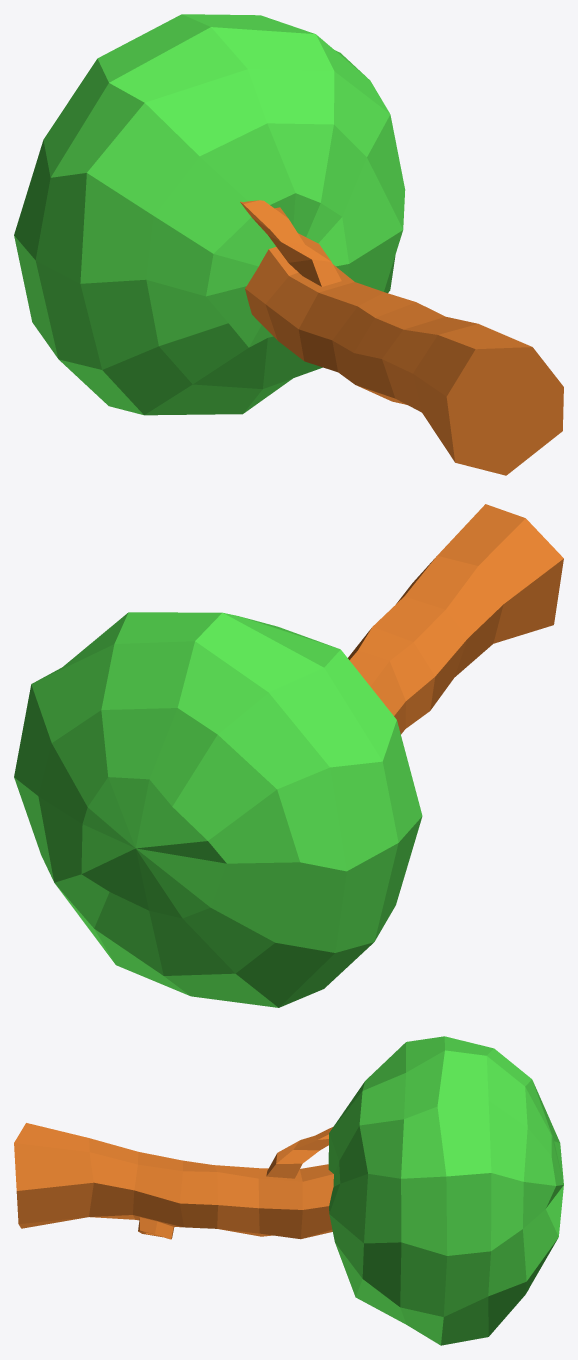
File: Derevo_LowPoly_2.fbx
3 views of the same model, one above another, from view 1: azimuth 30°, elevation 25°; view 2: azimuth 150°, elevation 25°; view 3: azimuth 270°, elevation 25° (orthographic). The views are drawn at different scales.
Parts seen in each view (by area): view 1: Cylinder; view 2: Cylinder; view 3: Cylinder.
Part boxes in pixels (x1,y1,x2,y2): Cylinder: [14, 14, 563, 475]; Cylinder: [14, 504, 563, 1007]; Cylinder: [14, 1036, 563, 1345].
Size of the model in its own units: 3.9 by 4.06 by 7.13.
